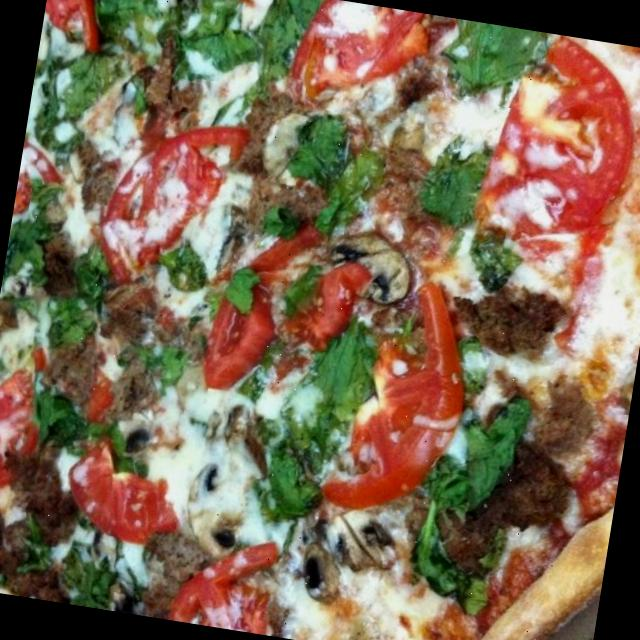basil: (406, 392, 540, 609), (36, 40, 132, 167), (166, 0, 271, 90), (444, 18, 545, 110), (242, 418, 330, 522), (242, 0, 320, 113), (316, 138, 397, 240), (298, 326, 379, 424), (51, 544, 152, 616), (46, 250, 114, 354), (0, 212, 64, 322), (419, 143, 489, 230), (37, 402, 136, 463), (95, 0, 179, 66), (121, 326, 192, 392), (291, 110, 349, 184), (463, 234, 523, 295), (15, 518, 58, 579), (284, 258, 321, 319), (258, 204, 308, 248), (162, 246, 212, 290), (222, 266, 261, 314), (244, 350, 272, 404), (28, 185, 63, 221), (122, 71, 150, 114)
tomato: (457, 27, 640, 300), (325, 274, 482, 523), (200, 214, 378, 396), (90, 101, 244, 302), (273, 0, 439, 124), (61, 444, 190, 558), (168, 526, 294, 638), (0, 349, 55, 503), (11, 138, 64, 232), (40, 0, 110, 51)
